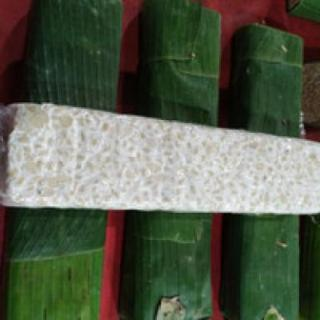Tempe: (1, 102, 320, 220)
